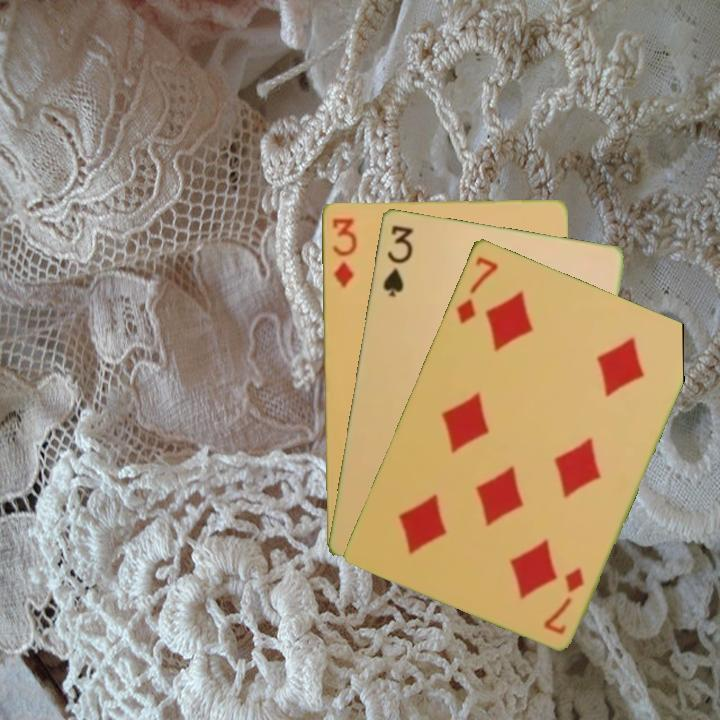3d: (328, 214, 359, 290)
3s: (379, 221, 416, 300)
7d: (452, 252, 501, 326), (539, 563, 587, 637)
